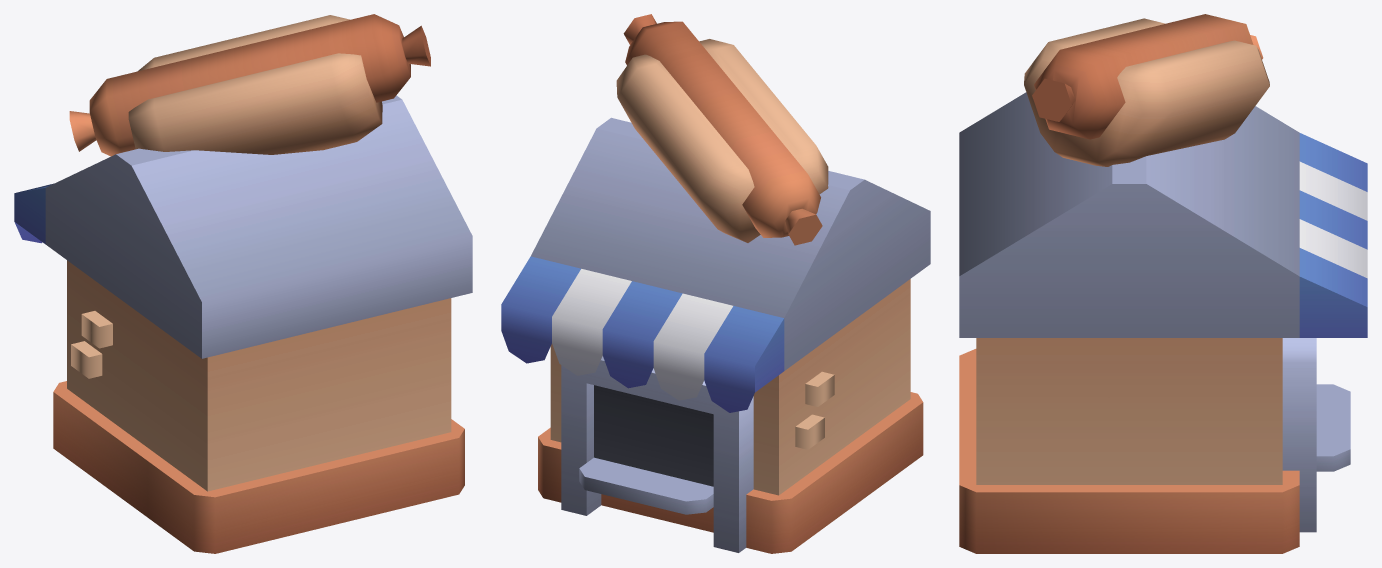
Rendered from stall-food.glb.
The picture shows the model from 3 angles, left to right: view 1: azimuth 30°, elevation 25°; view 2: azimuth 150°, elevation 25°; view 3: azimuth 270°, elevation 25°; orthographic projection. The views are drawn at different scales.
Visible parts, largest first — view 1: stall-food; view 2: stall-food; view 3: stall-food.
Boxes of the visible parts, x1,y1,x2,y2 form: stall-food: (14, 14, 472, 553); stall-food: (501, 14, 930, 553); stall-food: (959, 14, 1367, 553).
Bounding box in the file's own units: 1.04 × 1.54 × 1.2.
Materials: 1 (1 with a texture image).
